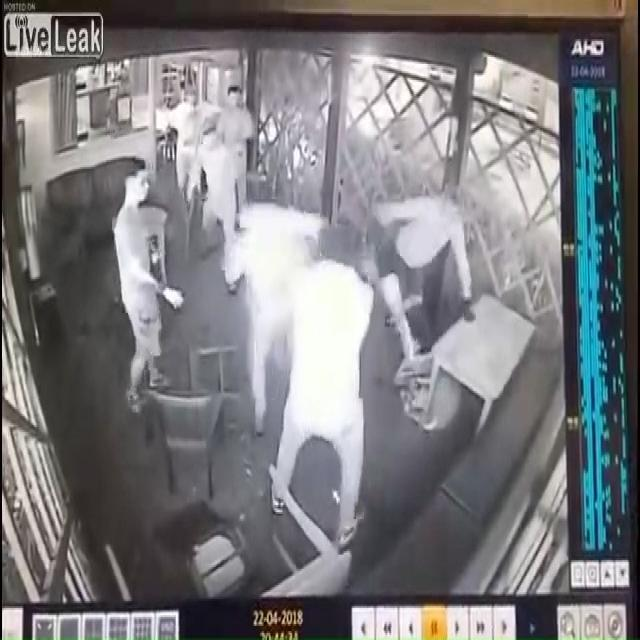fight: (228, 197, 368, 542)
